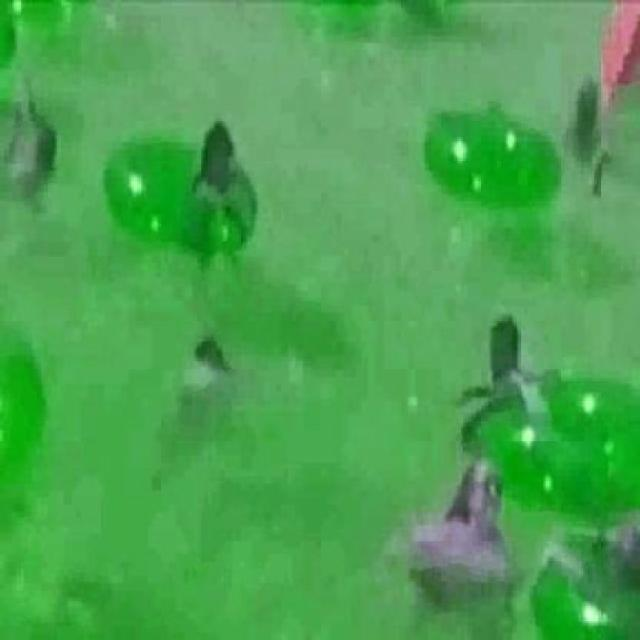drowning: (409, 453, 509, 590), (190, 335, 245, 420), (562, 80, 604, 158)
